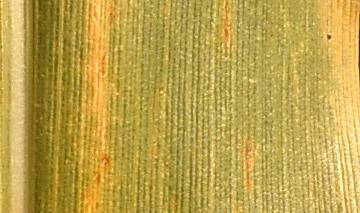tarspot: (357, 11, 360, 91), (324, 30, 333, 42)
